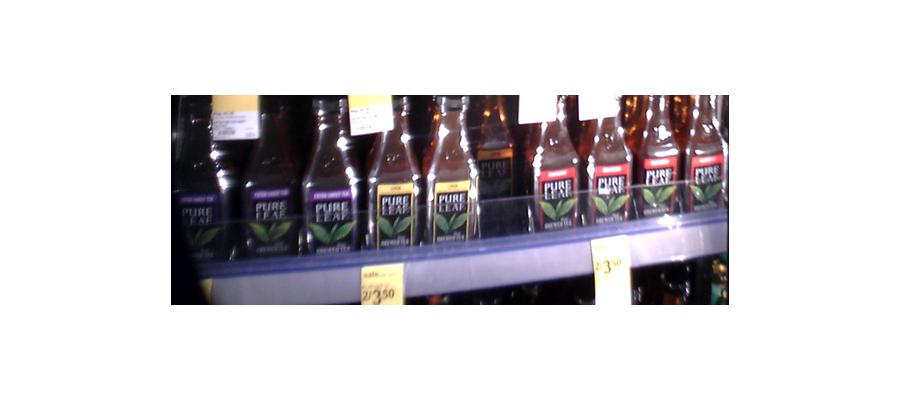bottle: (245, 95, 302, 263), (304, 93, 361, 254), (364, 96, 419, 249), (421, 93, 476, 246), (532, 95, 583, 230), (589, 92, 633, 223), (636, 94, 682, 215), (478, 94, 517, 214), (684, 96, 723, 210)
